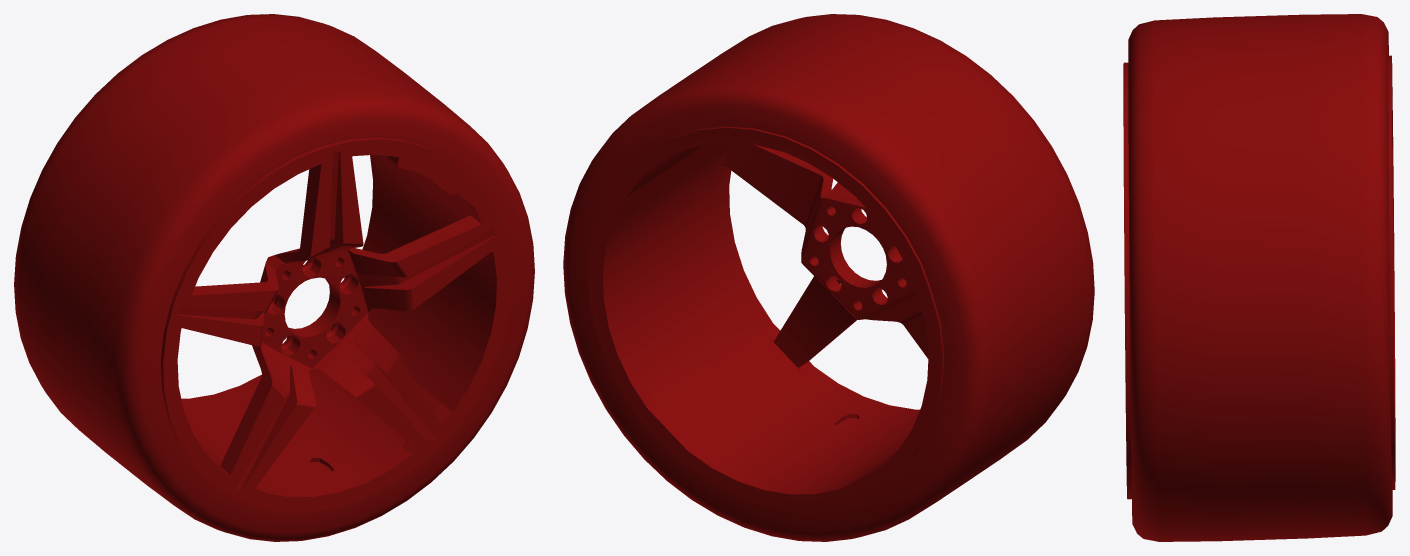
File: LlantaTraseraI_ANC.obj
3 renders of one model, left to right at view 1: azimuth 30°, elevation 25°; view 2: azimuth 150°, elevation 25°; view 3: azimuth 270°, elevation 25°, orthographic. The views are drawn at different scales.
Parts seen in each view (by area): view 1: cylinder131; view 2: cylinder131; view 3: cylinder131.
Boxes of the visible parts, bbox=[...] form: cylinder131: bbox=[14, 14, 534, 541]; cylinder131: bbox=[563, 14, 1094, 541]; cylinder131: bbox=[1123, 14, 1395, 541].
Bounding box in the file's own units: 3.29 × 3.33 × 1.71.
